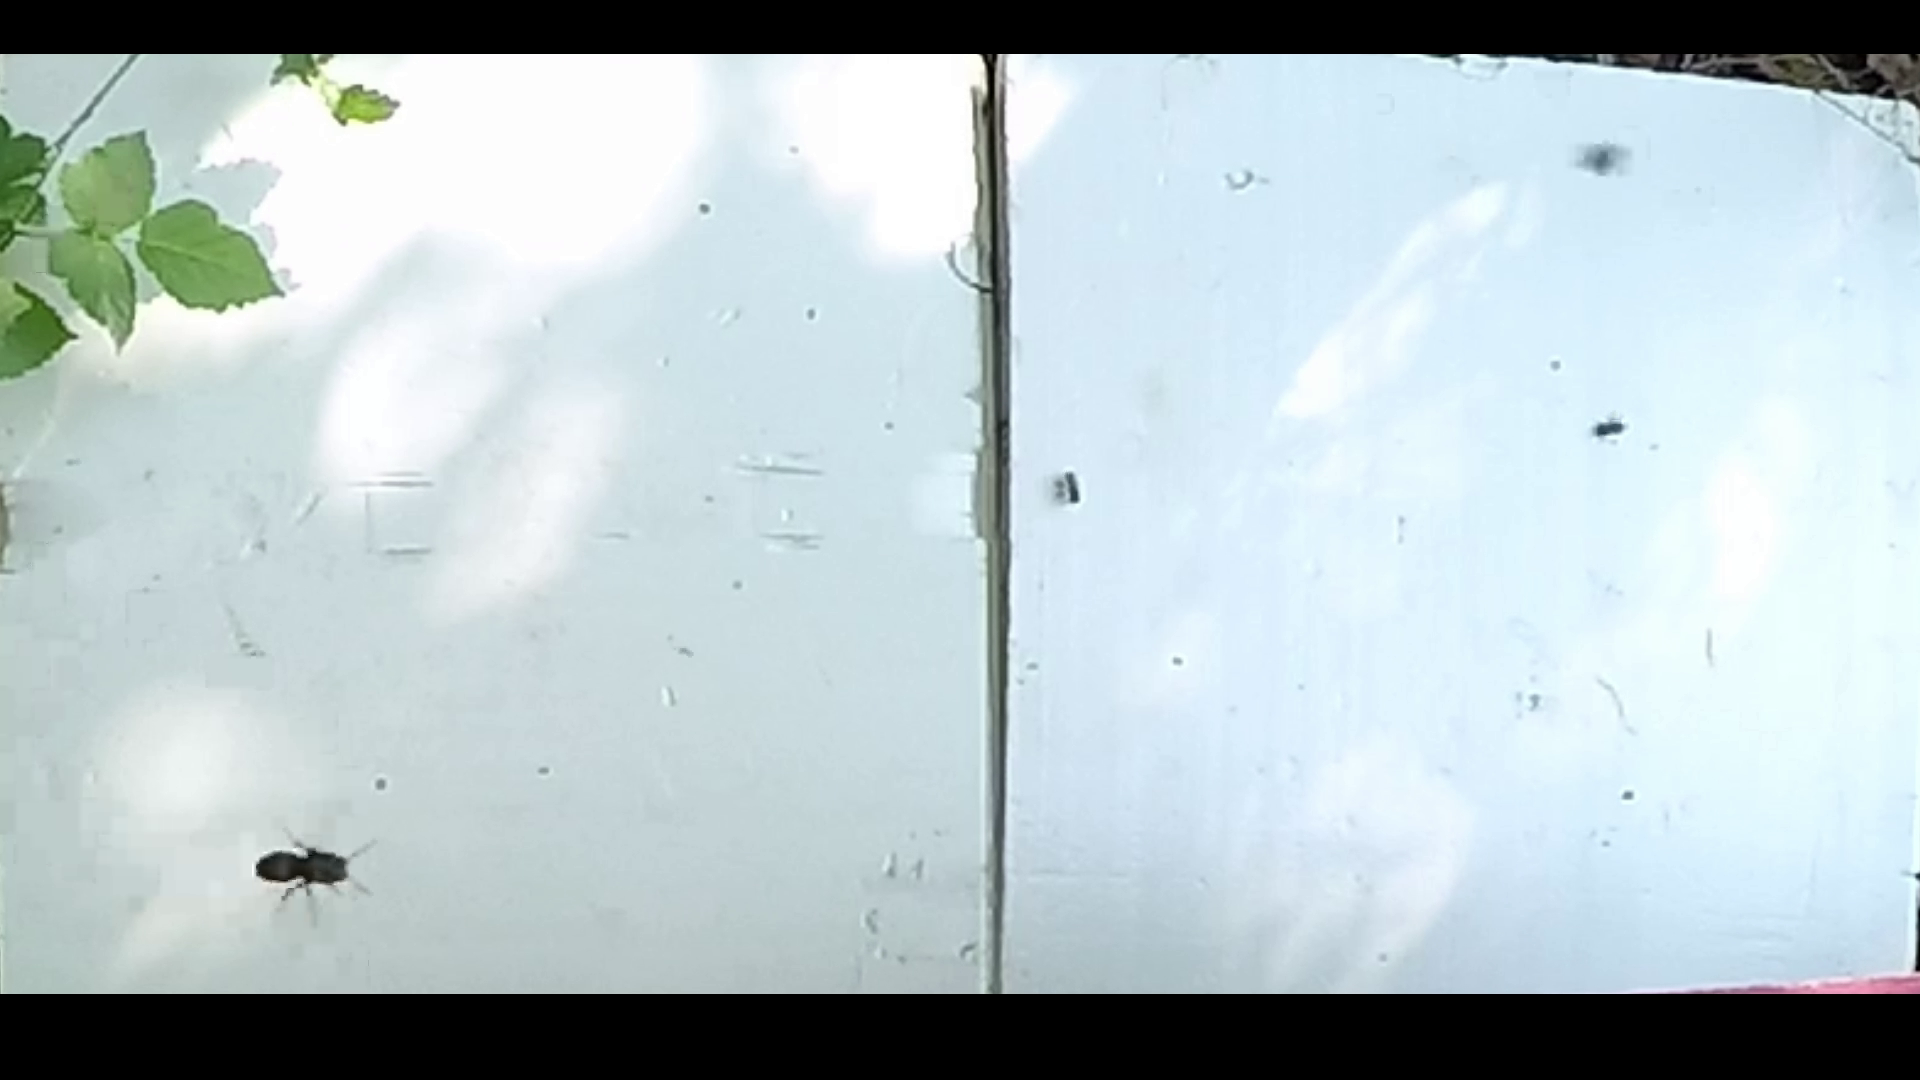Asian_hornets: (240, 807, 396, 927)
